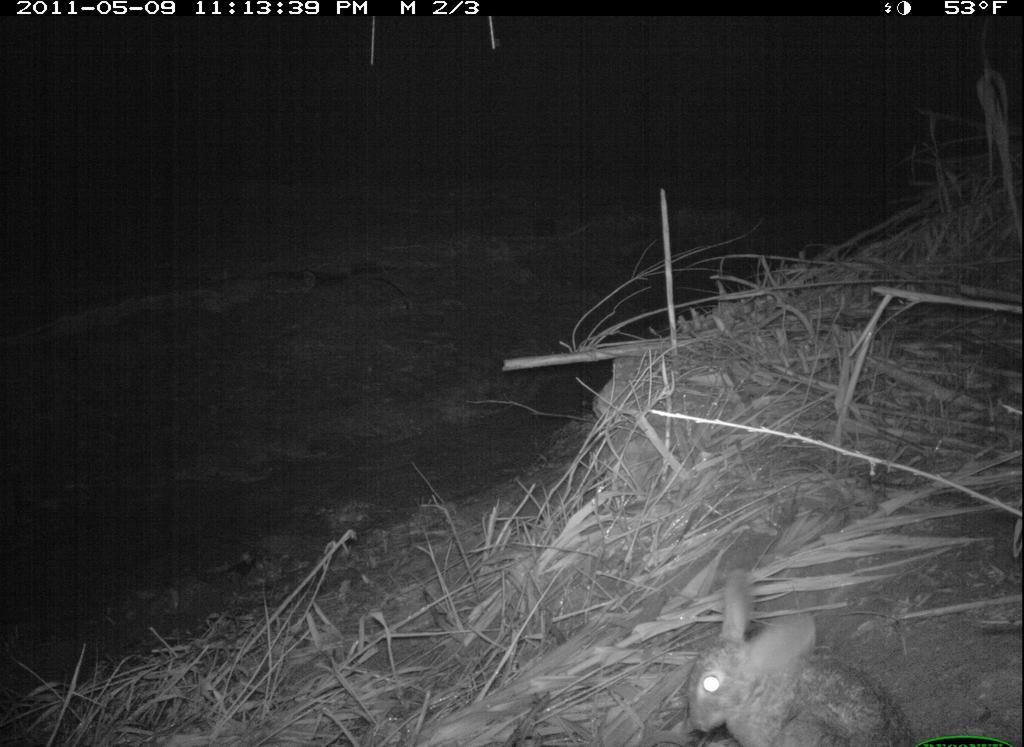rabbit: (679, 568, 916, 747)
